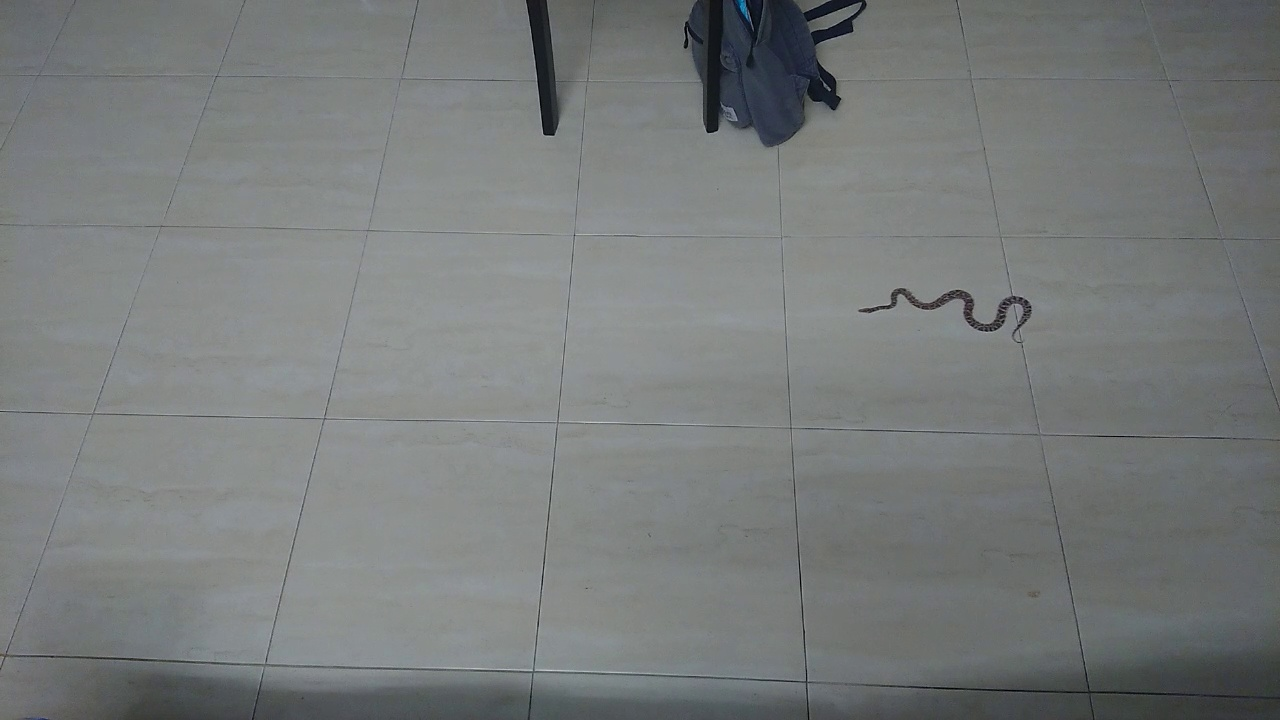snake: (838, 270, 1039, 358)
